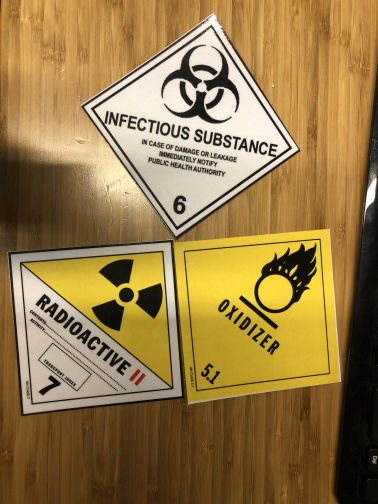InfectiousSubstance: (81, 13, 299, 237)
Oxidizer: (171, 227, 343, 403)
Radioactive: (7, 242, 183, 416)
